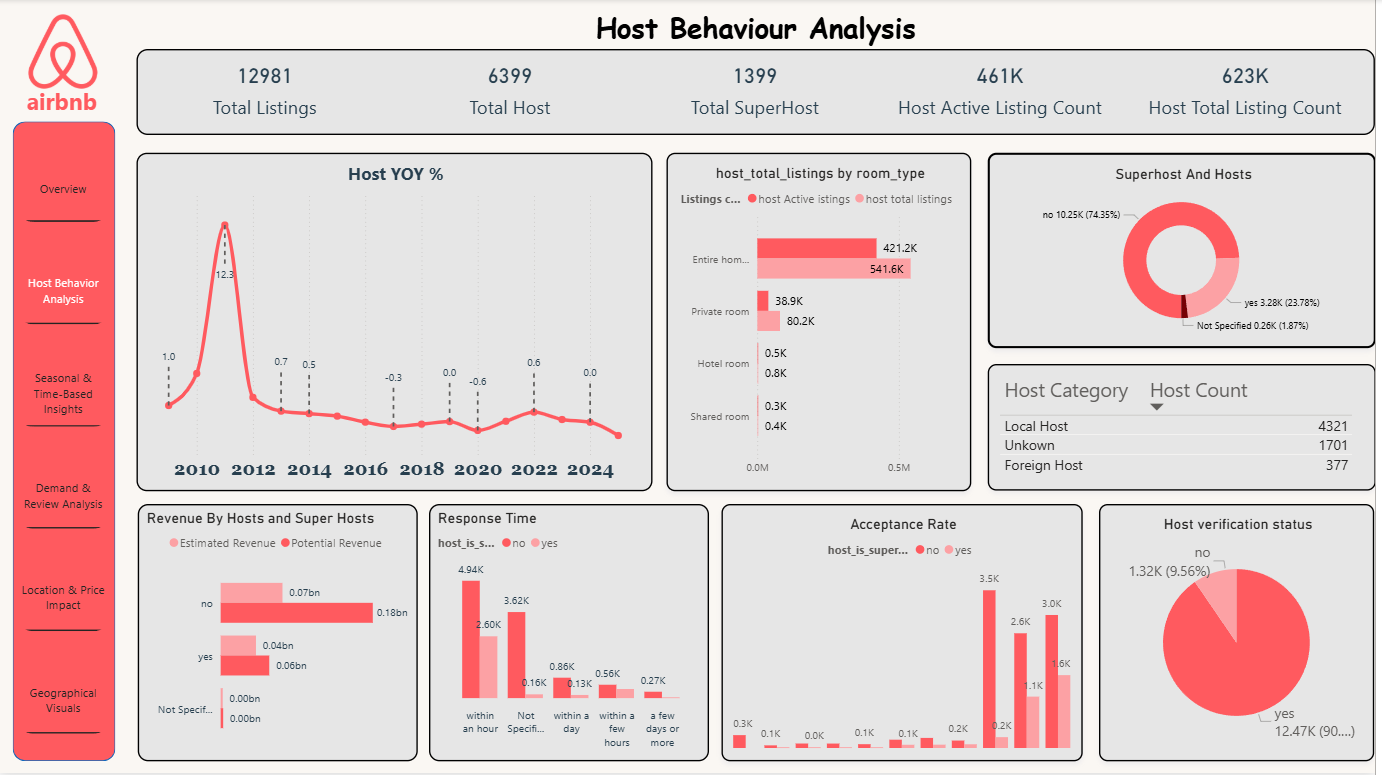

Layout of this report page (visuals, bound fields, positions):
{"tool":"powerbi","page":{"name":"Host Behavior Analysis","canvas":[1600,900],"ordinal":1},"visuals":[{"type":"donutChart","title":"Superhost And Hosts","fields":{"Y":["CountNonNull(cleaned_Listings_data.host_id)"],"Category":["cleaned_Listings_data.host_is_superhost"]},"box":[1149,178.2,451.1,227.2],"z":0},{"type":"lineChart","fields":{"Category":["cleaned_Listings_data.host_since.Variation.Date Hierarchy.Year"],"Y":["Measures (2).host YOY %"]},"box":[160.2,178.2,599.8,393.9],"z":1000},{"type":"pieChart","title":"Host verification status","fields":{"Y":["CountNonNull(cleaned_Listings_data.host_id)"],"Category":["cleaned_Listings_data.host_identity_verified"]},"box":[1279.7,586.8,320.3,299.1],"z":2000},{"type":"clusteredBarChart","title":"host_total_listings by room_type","fields":{"Category":["cleaned_Listings_data.room_type"],"Y":["Sum(cleaned_Listings_data.host_listings_count)","Sum(cleaned_Listings_data.host_total_listings_count)"]},"box":[776.3,178.2,354.7,393.9],"z":3000},{"type":"clusteredColumnChart","title":" Response Time","fields":{"Category":["cleaned_Listings_data.host_response_time"],"Y":["CountNonNull(cleaned_Listings_data.host_id)"],"Series":["cleaned_Listings_data.host_is_superhost"]},"box":[499.7,586.8,325.6,299.1],"z":4000},{"type":"clusteredColumnChart","title":"Acceptance Rate","fields":{"Category":["cleaned_Listings_data.host_acceptance_rate (bins)"],"Y":["CountNonNull(cleaned_Listings_data.host_id)"],"Series":["cleaned_Listings_data.host_is_superhost"]},"box":[840.4,586.8,420.2,299.1],"z":5000},{"type":"textbox","box":[160.2,9.8,1439.9,49],"z":6000},{"type":"tableEx","fields":{"Values":["Dim Hosts.Host Category","CountNonNull(Dim Hosts.host_id)"]},"box":[1149,424.9,451.1,147.1],"z":7000},{"type":"clusteredBarChart","title":"Revenue By Hosts and Super Hosts","fields":{"Category":["cleaned_Listings_data.host_is_superhost"],"Y":["Sum(cleaned_Listings_data.estimated_revenue_l365d)","Sum(cleaned_Listings_data.Potential Revenue 365)"]},"box":[160.9,586.8,325.6,299.1],"z":8000},{"type":"cardVisual","fields":{"Data":["Measures (2).Total Listings","Measures (2).Total Host","Measures (2).Total SuperHost","Measures (2).Host Active Listing Count","Measures (2).Host Total Listing Count"]},"box":[160.2,58.8,1439.9,99.7],"z":9000},{"type":"shape","box":[16.3,142.2,119.3,743.7],"z":10000},{"type":"textbox","box":[4.9,96.4,137.3,60.5],"z":11000},{"type":"image","box":[8.2,13.1,130.8,96.4],"z":12000},{"type":"pageNavigator","box":[20.8,179.8,109.8,679.5],"z":13000}]}

Visuals, with their boxes in screenshot pixels (x1, y1, x2, y2), scaled from the page's 1600x900 canvas onto the 1382x775 screenshot:
"Superhost And Hosts" donutChart: {"x1": 992, "y1": 153, "x2": 1381, "y2": 349}
lineChart - cleaned_Listings_data.host_since.Variation.Date Hierarchy.Year x Measures (2).host YOY %: {"x1": 138, "y1": 153, "x2": 656, "y2": 493}
"Host verification status" pieChart: {"x1": 1105, "y1": 505, "x2": 1381, "y2": 763}
"host_total_listings by room_type" clusteredBarChart: {"x1": 671, "y1": 153, "x2": 977, "y2": 493}
" Response Time" clusteredColumnChart: {"x1": 432, "y1": 505, "x2": 713, "y2": 763}
"Acceptance Rate" clusteredColumnChart: {"x1": 726, "y1": 505, "x2": 1089, "y2": 763}
textbox: {"x1": 138, "y1": 8, "x2": 1381, "y2": 51}
tableEx - Dim Hosts.Host Category x CountNonNull(Dim Hosts.host_id): {"x1": 992, "y1": 366, "x2": 1381, "y2": 493}
"Revenue By Hosts and Super Hosts" clusteredBarChart: {"x1": 139, "y1": 505, "x2": 420, "y2": 763}
cardVisual - Measures (2).Total Listings x Measures (2).Total Host: {"x1": 138, "y1": 51, "x2": 1381, "y2": 136}
shape: {"x1": 14, "y1": 122, "x2": 117, "y2": 763}
textbox: {"x1": 4, "y1": 83, "x2": 123, "y2": 135}
image: {"x1": 7, "y1": 11, "x2": 120, "y2": 94}
pageNavigator: {"x1": 18, "y1": 155, "x2": 113, "y2": 740}
